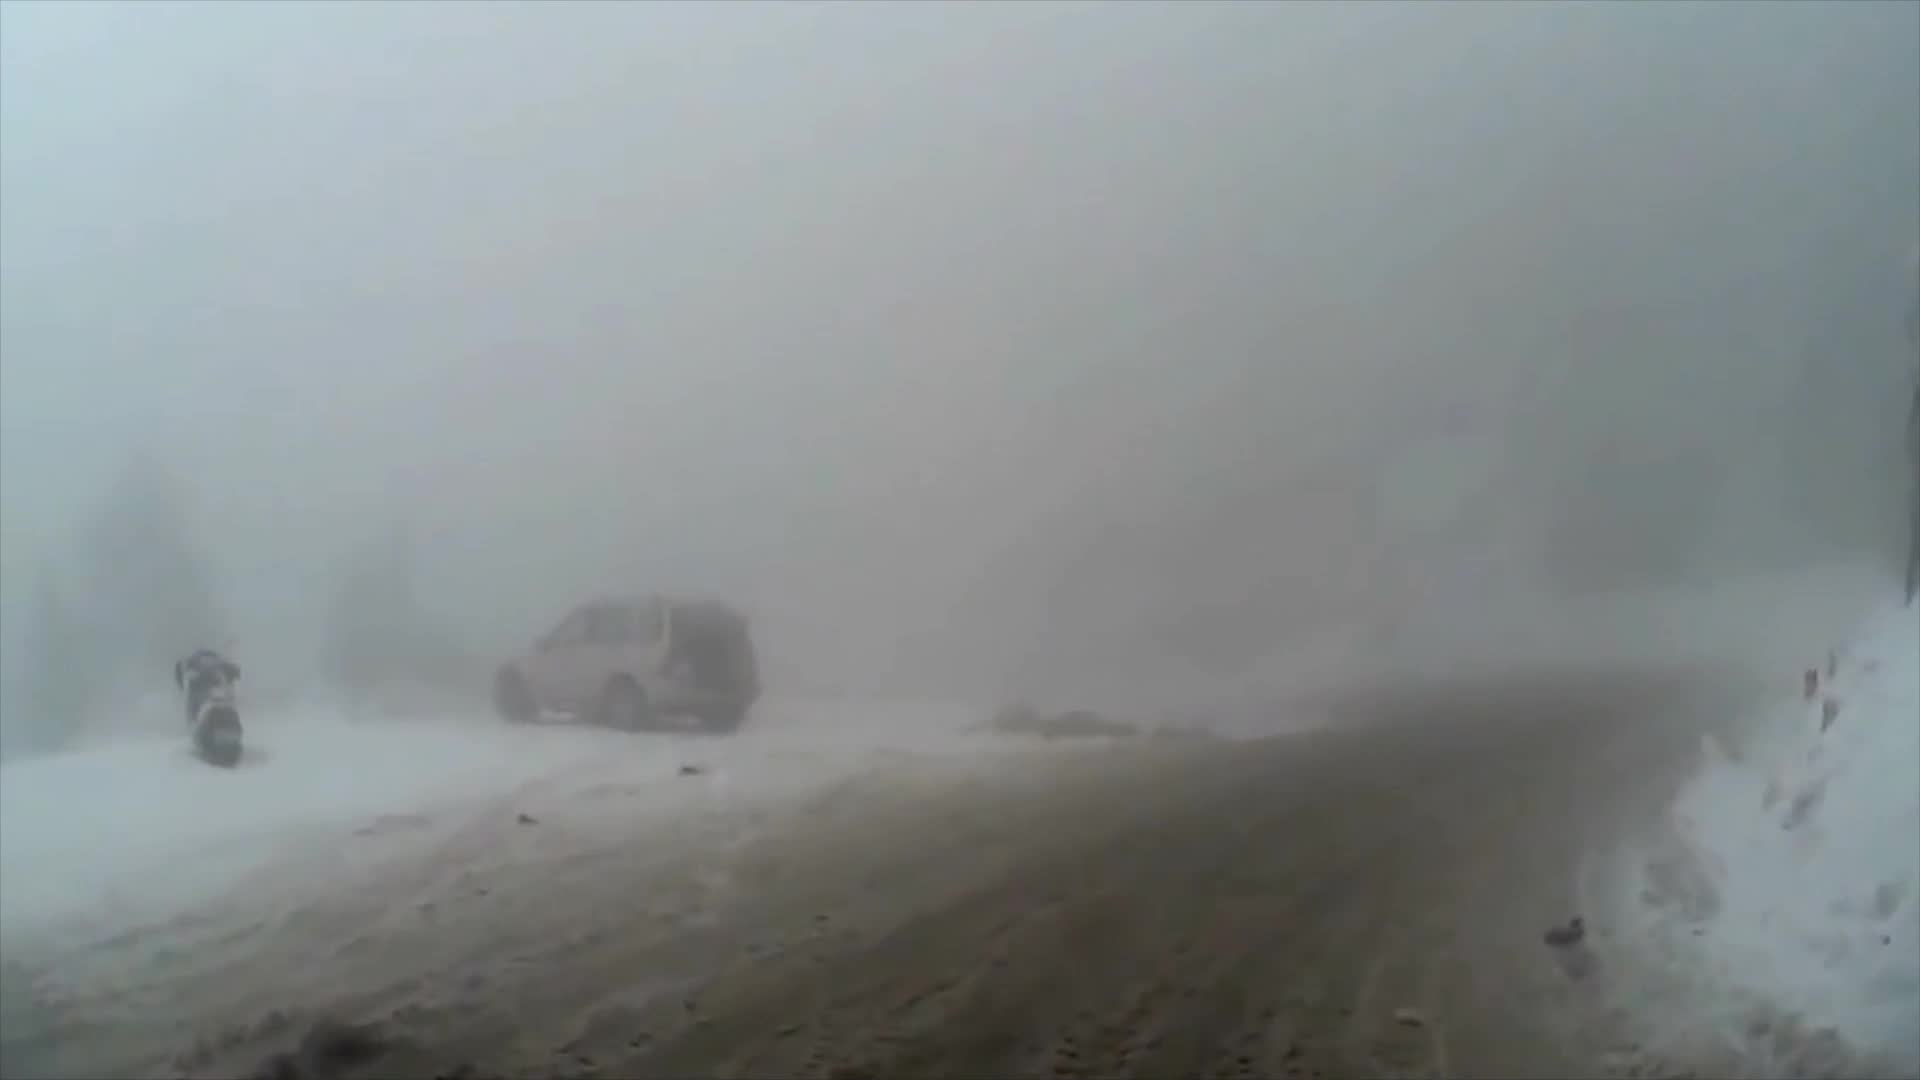vehicle: (489, 589, 760, 735)
